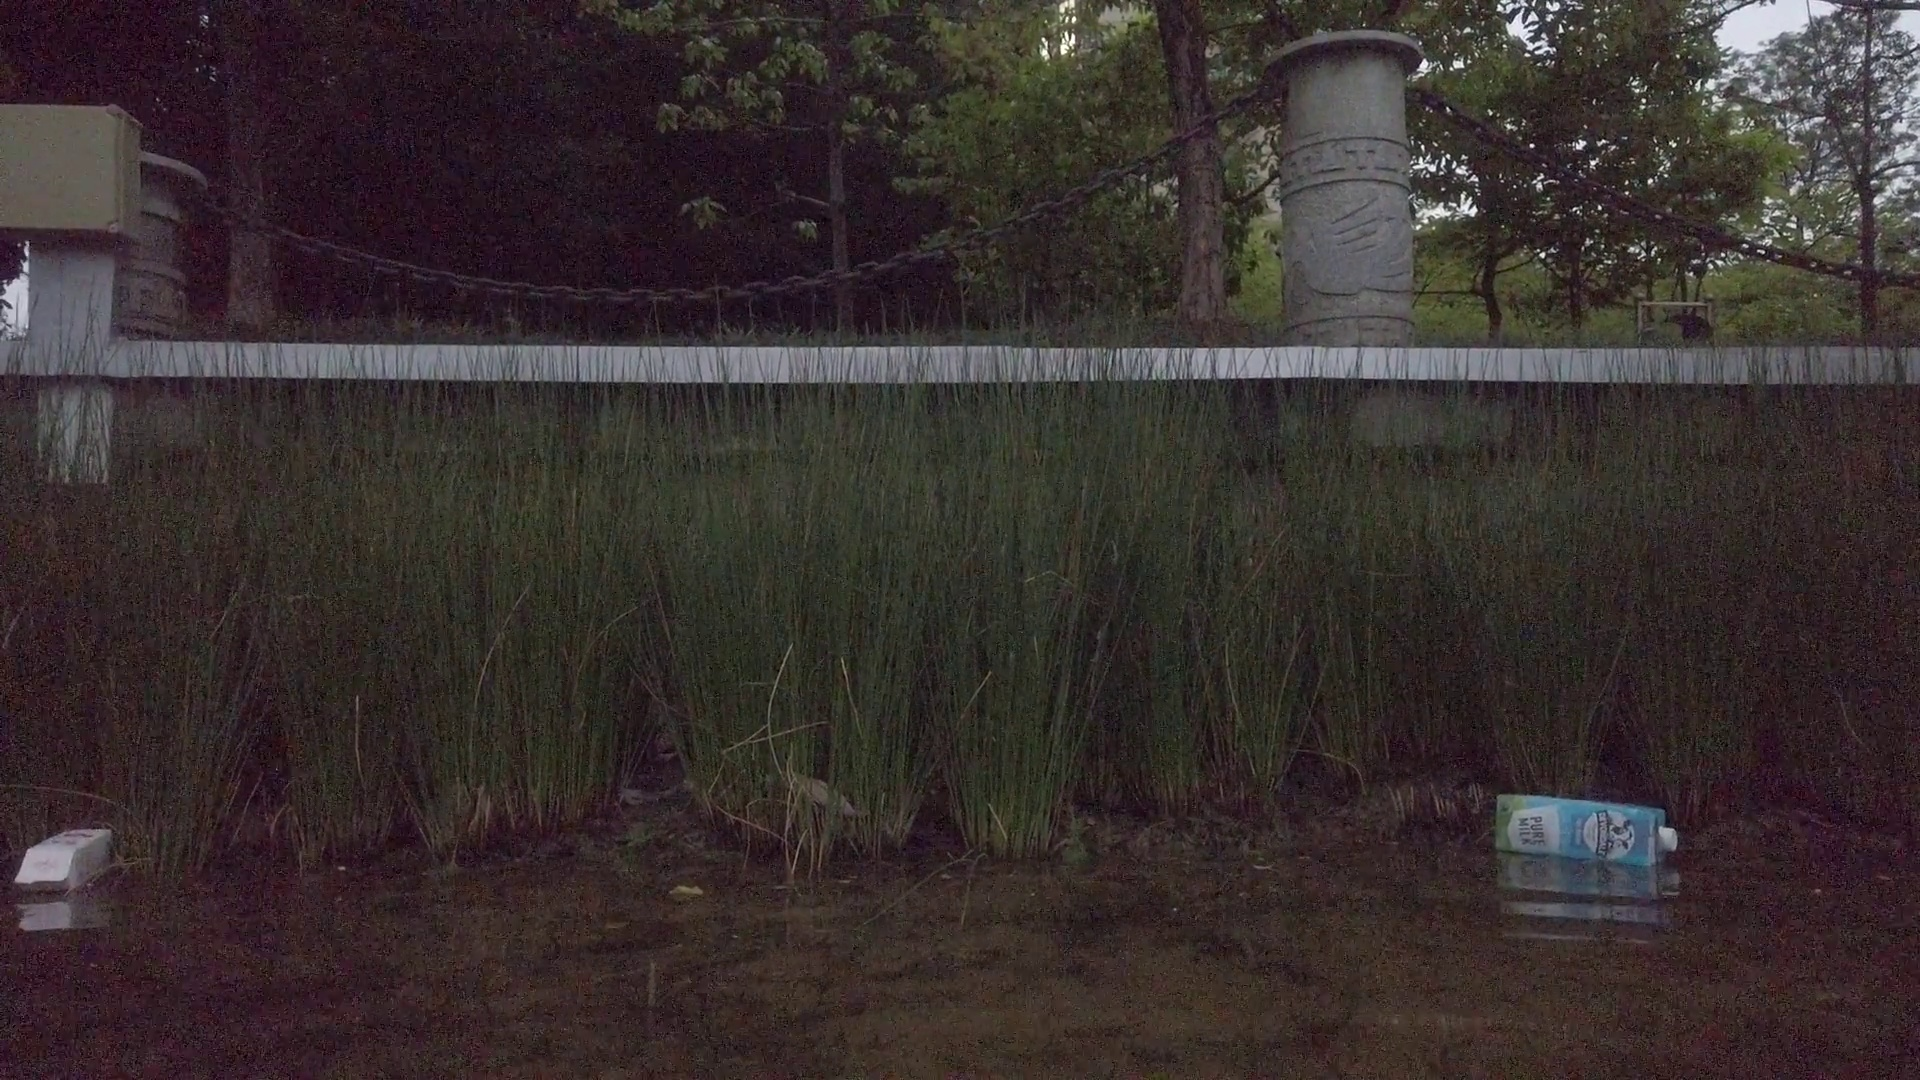carton: (1495, 791, 1677, 868), (15, 825, 113, 894)
